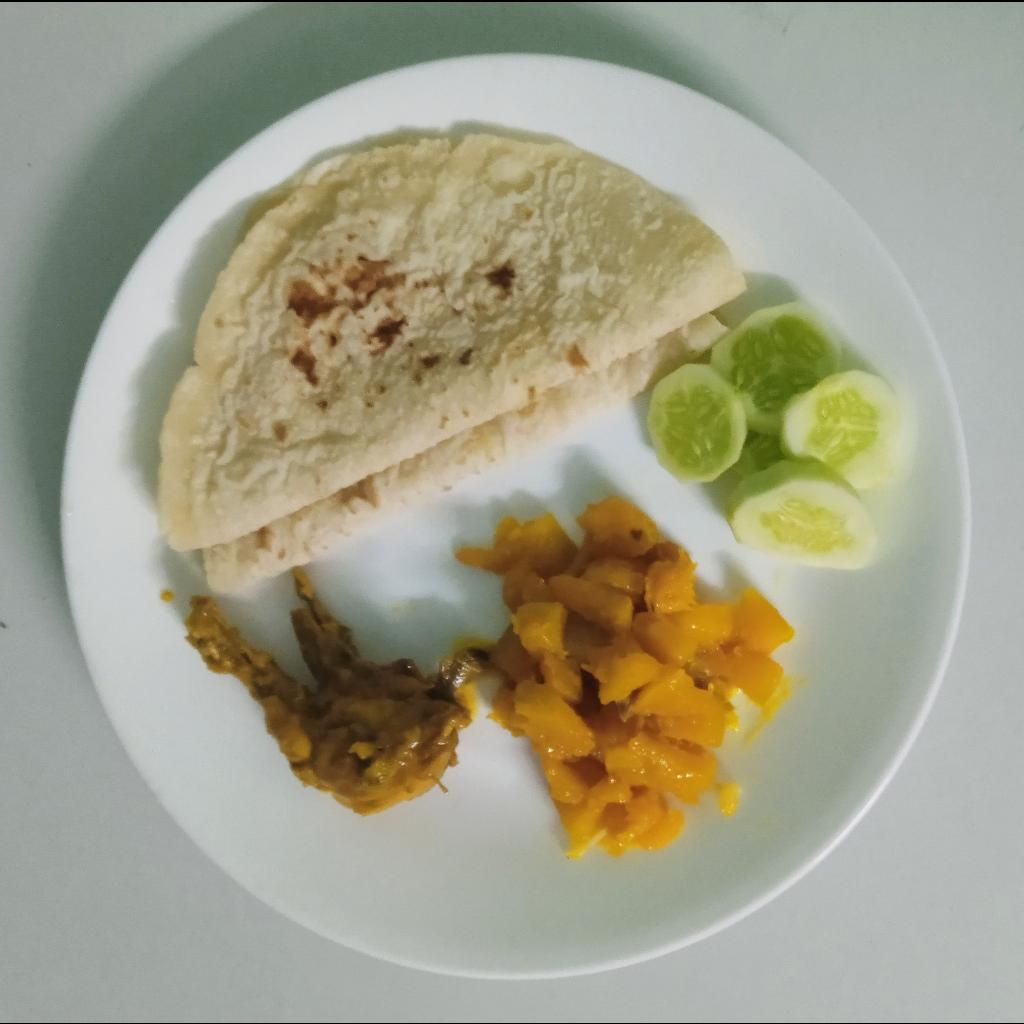chicken: (183, 570, 482, 819)
cucumber: (647, 298, 906, 578)
kumra-vaji: (458, 494, 801, 859)
ruti: (156, 130, 746, 593)
